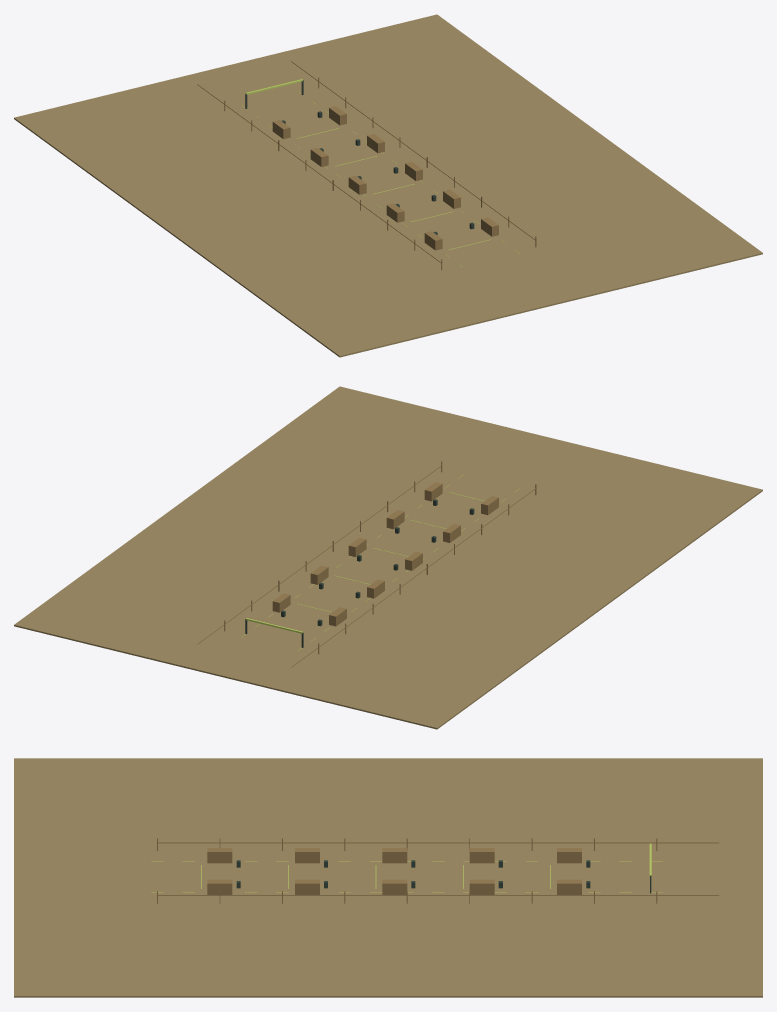
File: runthrough.glb
3 views of the same model, one above another, from view 1: azimuth 30°, elevation 25°; view 2: azimuth 150°, elevation 25°; view 3: azimuth 270°, elevation 25° (orthographic). The views are drawn at different scales.
Parts seen in each view (by area): view 1: ground; view 2: ground; view 3: ground.
Part boxes in pixels (<box>): ground: <box>14,14,762,357</box>; ground: <box>14,386,762,729</box>; ground: <box>14,758,762,997</box>.
Size of the model in its own units: 90 by 3.45 by 120.
